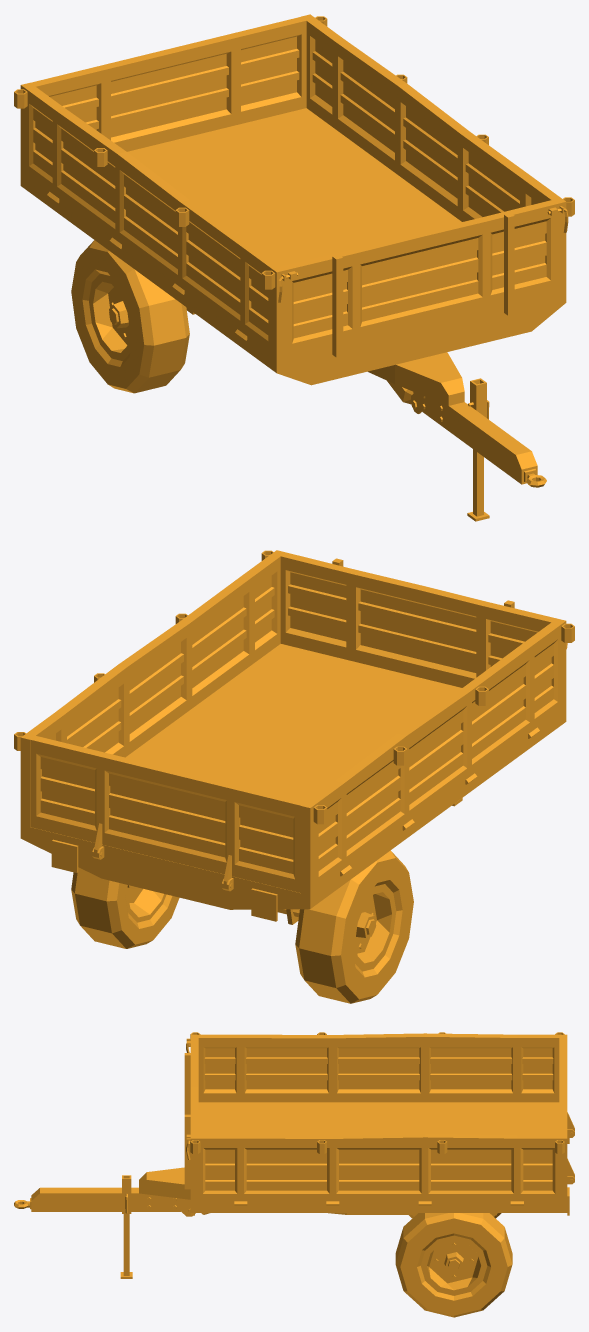
The model's file is SM_Trailer_Tractor_Small.fbx.
3 views of the same model, one above another, from view 1: azimuth 30°, elevation 25°; view 2: azimuth 150°, elevation 25°; view 3: azimuth 270°, elevation 25° (orthographic). The views are drawn at different scales.
Parts seen in each view (by area): view 1: trailer-tractor-small-cargo, trailer-tractor-small-door, trailer-tractor-small-wheels, trailer-tractor-small-base, trailer-tractor-small-stand; view 2: trailer-tractor-small-cargo, trailer-tractor-small-door, trailer-tractor-small-wheels; view 3: trailer-tractor-small-cargo, trailer-tractor-small-wheels, trailer-tractor-small-base, trailer-tractor-small-door, trailer-tractor-small-stand.
Part boxes in pixels (x1,y1,x2,y2): trailer-tractor-small-cargo: [14, 14, 574, 385]; trailer-tractor-small-door: [30, 17, 306, 151]; trailer-tractor-small-wheels: [71, 240, 189, 393]; trailer-tractor-small-base: [186, 307, 546, 487]; trailer-tractor-small-stand: [467, 449, 489, 521]; trailer-tractor-small-cargo: [14, 550, 574, 921]; trailer-tractor-small-door: [30, 736, 305, 892]; trailer-tractor-small-wheels: [71, 850, 413, 1003]; trailer-tractor-small-cargo: [184, 1032, 574, 1215]; trailer-tractor-small-wheels: [395, 1213, 512, 1317]; trailer-tractor-small-base: [14, 1167, 496, 1216]; trailer-tractor-small-door: [559, 1038, 574, 1177]; trailer-tractor-small-stand: [120, 1214, 132, 1278].
Size of the model in its own units: 1.61 by 1.26 by 3.42.
